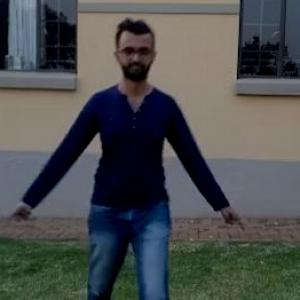land: (34, 43, 219, 299)
